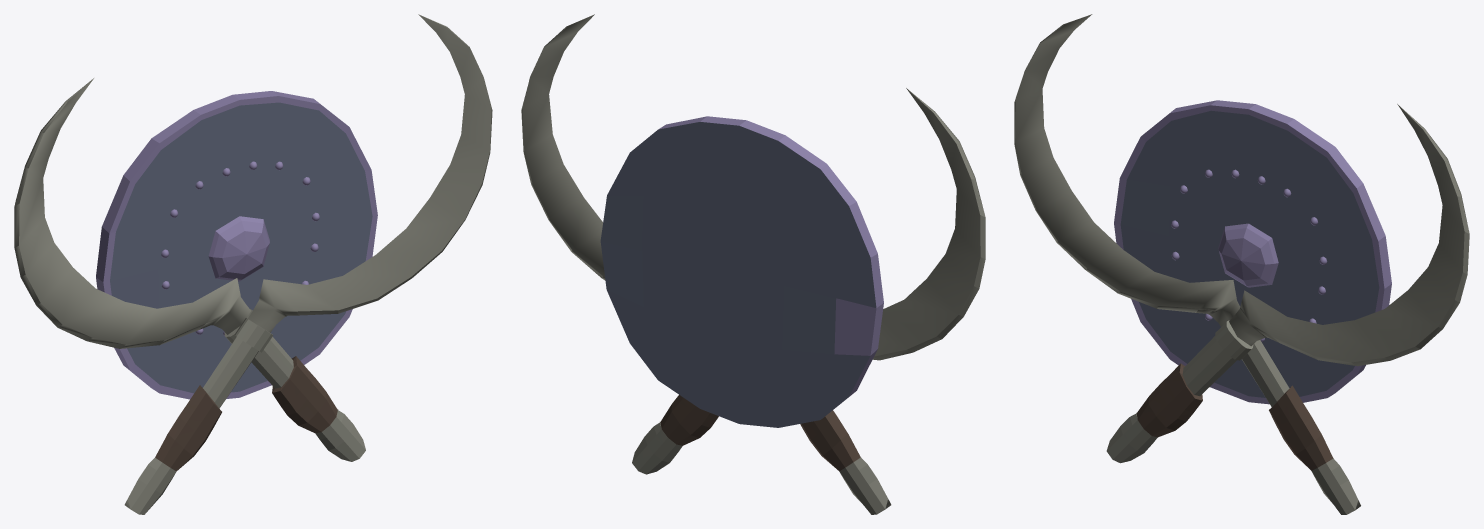
Rendered from Comb_3.fbx.
3 renders of one model, left to right at view 1: azimuth 30°, elevation 25°; view 2: azimuth 150°, elevation 25°; view 3: azimuth 330°, elevation 25°, orthographic.
Parts seen in each view (by area): view 1: Shield 1.003, Sword 1.008; view 2: Shield 1.003, Sword 1.008; view 3: Shield 1.003, Sword 1.008.
Boxes of the visible parts, x1=… form: Shield 1.003: x1=96, y1=91, x2=377, y2=399; Sword 1.008: x1=14, y1=14, x2=492, y2=514; Shield 1.003: x1=600, y1=116, x2=883, y2=427; Sword 1.008: x1=521, y1=14, x2=985, y2=514; Shield 1.003: x1=1114, y1=100, x2=1391, y2=404; Sword 1.008: x1=1014, y1=14, x2=1469, y2=514.
Size of the model in its own units: 104 by 93.83 by 10.31.
